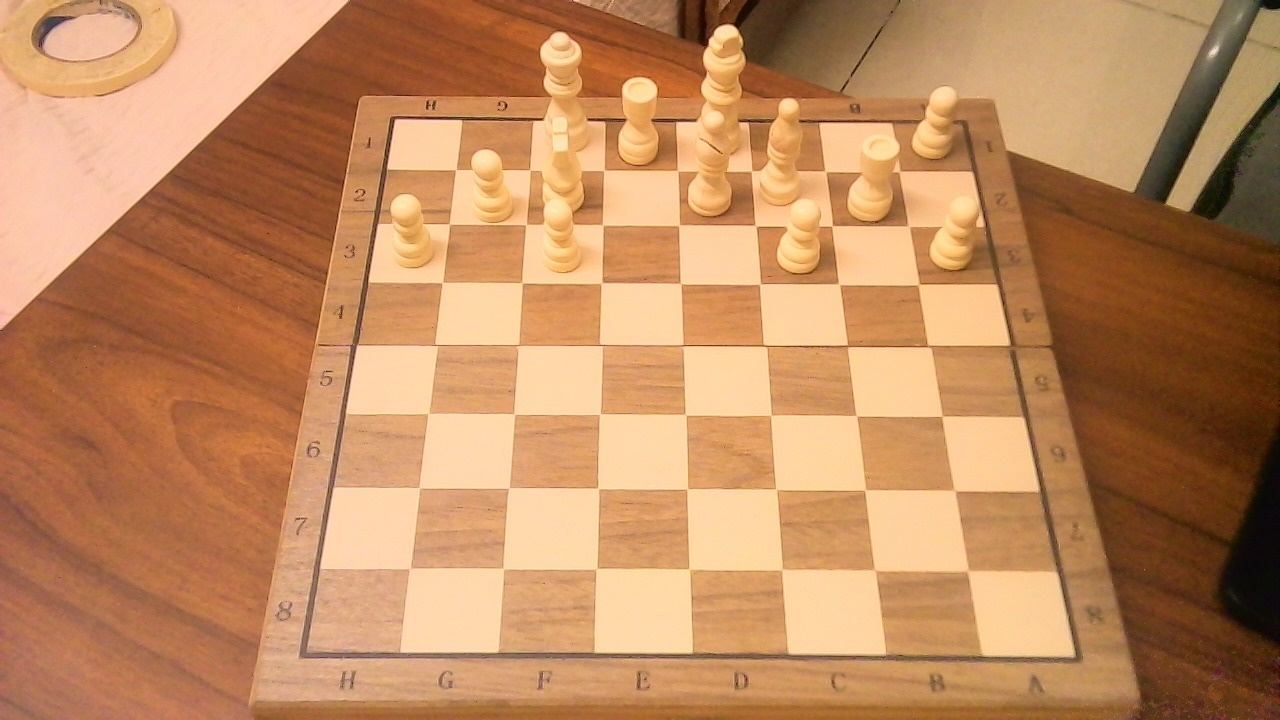B: (683, 98, 746, 220), (756, 87, 814, 210)
K: (687, 13, 755, 160)
N: (532, 103, 595, 216)
P: (768, 188, 831, 278), (923, 186, 988, 273), (530, 188, 589, 278), (380, 185, 439, 273), (907, 76, 966, 162), (460, 140, 519, 225)
Q: (535, 21, 596, 155)
R: (840, 123, 908, 225), (610, 66, 668, 169)
